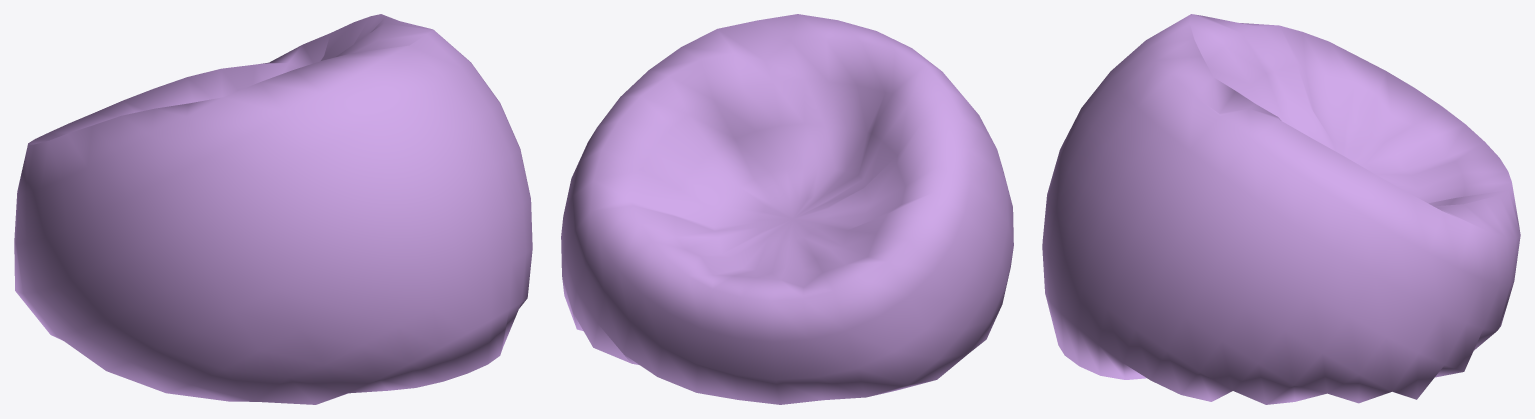
The model's file is ottoman.fbx.
3 views of the same model, side by side, from view 1: azimuth 30°, elevation 25°; view 2: azimuth 150°, elevation 25°; view 3: azimuth 270°, elevation 25° (orthographic). The views are drawn at different scales.
Parts seen in each view (by area): view 1: Sphere; view 2: Sphere; view 3: Sphere.
Boxes of the visible parts, x1=… form: Sphere: x1=14, y1=14, x2=532, y2=404; Sphere: x1=561, y1=14, x2=1013, y2=404; Sphere: x1=1042, y1=14, x2=1520, y2=404.
Size of the model in its own units: 100 by 63.69 by 99.74.
